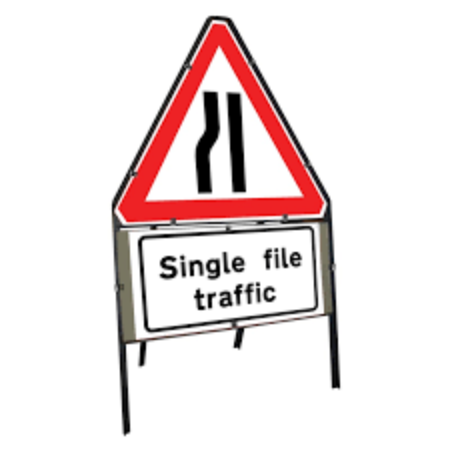Narrow_road: (104, 13, 338, 225)
